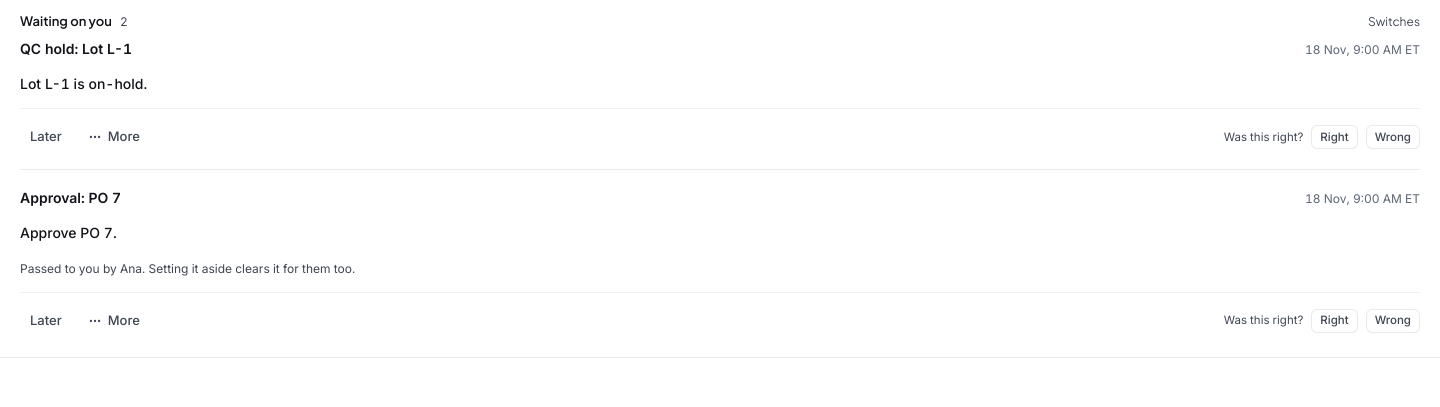
Test: the queue on Home and its Switches tab › an alert is passed to a colleague by an opaque key; nothing is decided
Check: the text "Lot L-1 is on-hold." is shown, box [20,75,147,92]
Check: the text with test id "alert-handed-from" shows "Passed to you by Ana", box [20,260,355,276]
Step 1. Click the button "More" below "QC hold: Lot L-1" → [114, 137], box [78,121,150,153]
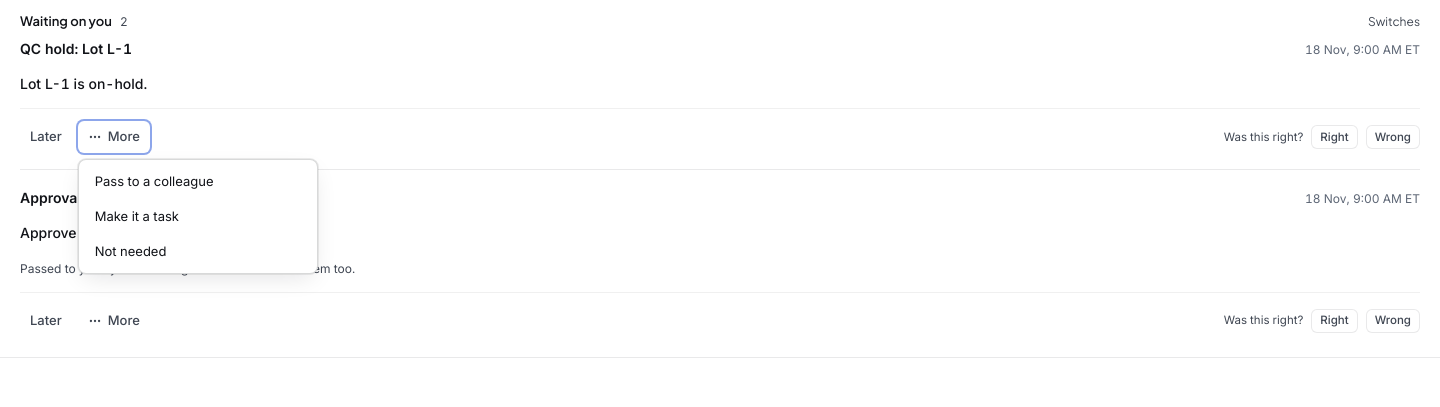
Step 2. Click the menu item "Pass to a colleague" → [198, 181], box [83,164,313,199]
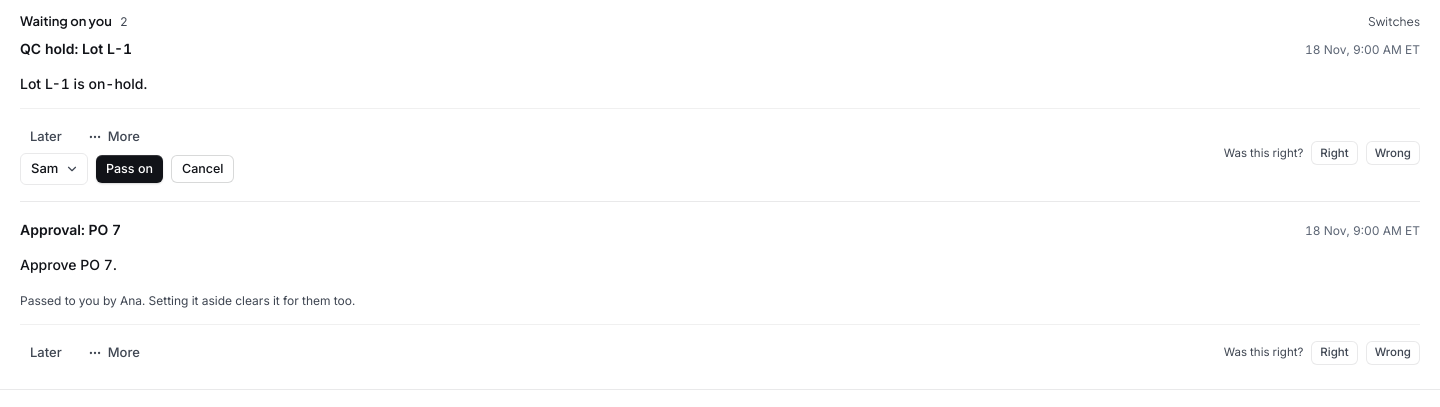
Step 3. Click the button "Pass on" → [130, 169], box [96,155,163,183]
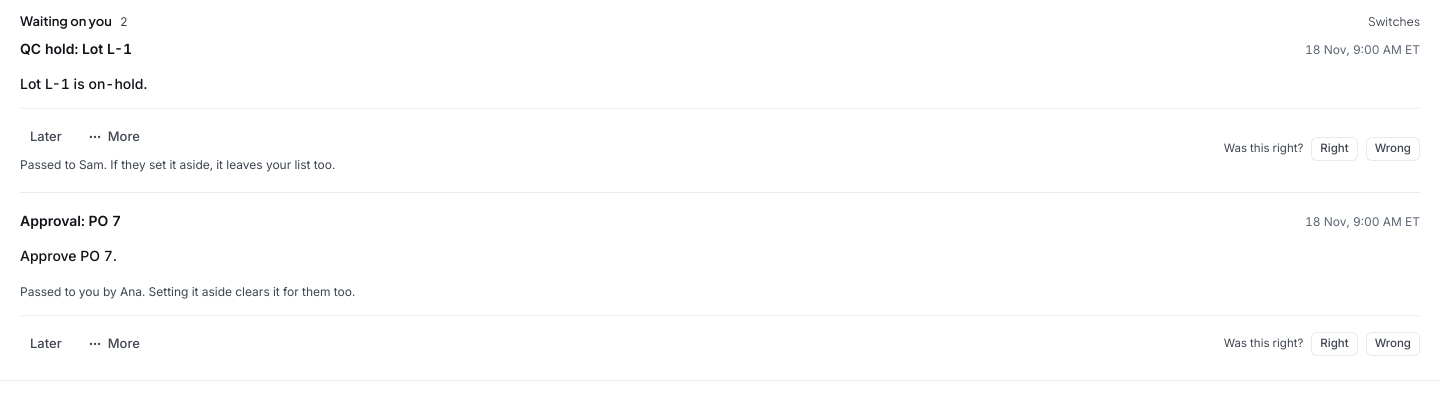
Check: the text with test id "alert-handed-to" shows "Passed to Sam", box [20,153,335,176]
